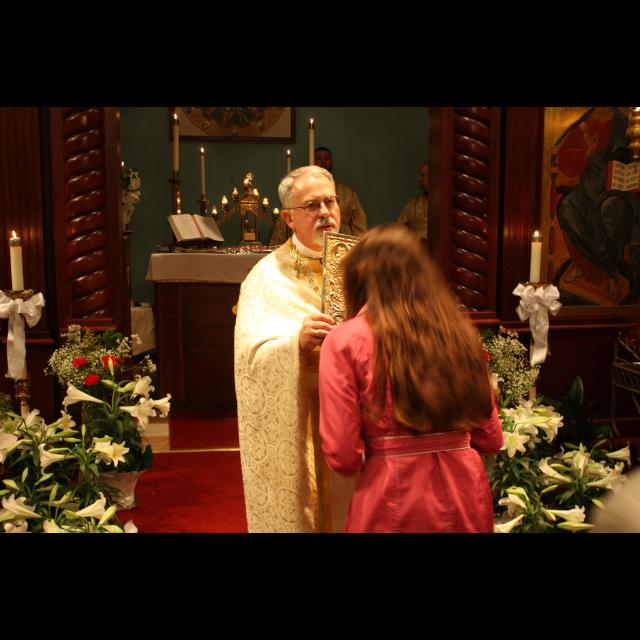Flower: (493, 446, 633, 534), (499, 397, 563, 458), (30, 443, 76, 475), (119, 403, 159, 433), (61, 384, 101, 412), (70, 495, 108, 521), (85, 435, 114, 467), (95, 441, 128, 469), (1, 495, 42, 517), (14, 410, 46, 438), (1, 431, 26, 462), (146, 393, 170, 417), (128, 377, 154, 399), (46, 416, 76, 434), (44, 519, 78, 533), (102, 521, 138, 533), (1, 521, 32, 533), (488, 369, 502, 391), (70, 355, 88, 369), (102, 353, 116, 369), (85, 374, 99, 384)
